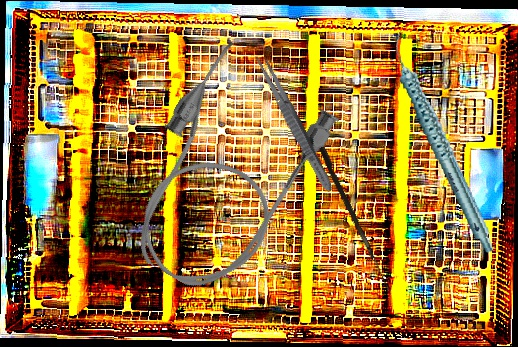Cannula: (101, 34, 346, 310)
Dressing Forceps: (250, 51, 338, 195)
Handpiece: (389, 21, 495, 264)
Hook Surgical: (316, 146, 396, 291)
